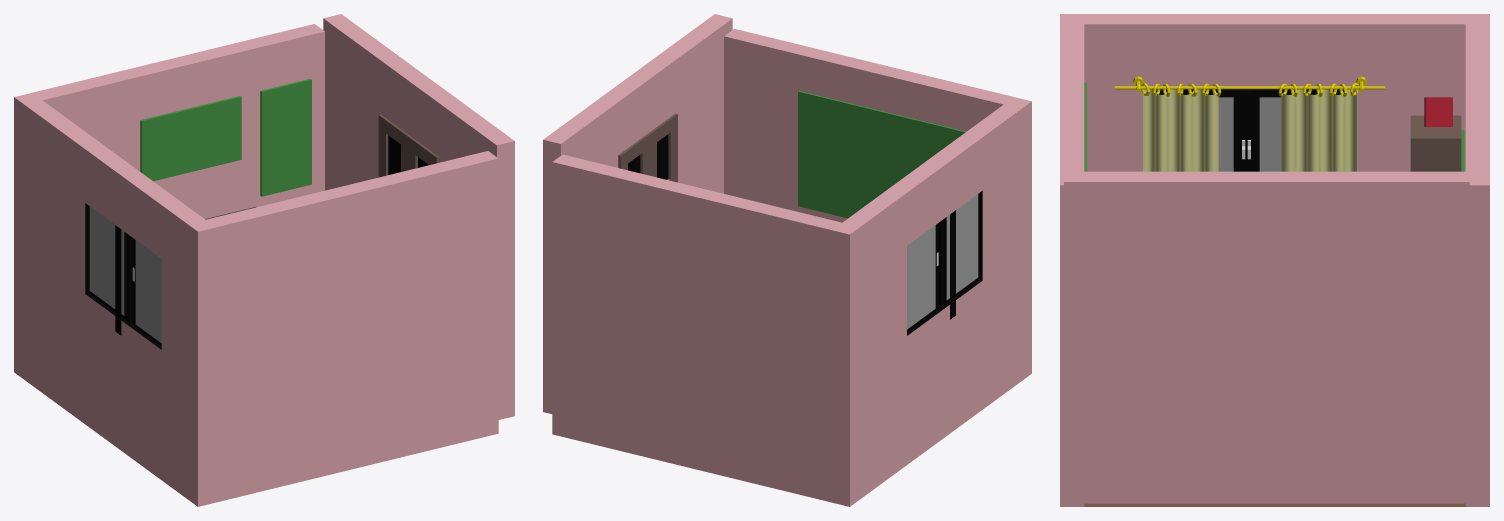
Rendered from Living_Room.fbx.
The picture shows the model from 3 angles, left to right: view 1: azimuth 30°, elevation 25°; view 2: azimuth 150°, elevation 25°; view 3: azimuth 270°, elevation 25°; orthographic projection. The views are drawn at different scales.
Visible parts, largest first — view 1: pCube52, pCube1, pCube53, polySurface27, polySurface28; view 2: pCube1, pCube52, pCube53, polySurface197; view 3: pCube53, pCube1, polySurface99, polySurface91, pCube52, pCube2, pCylinder5, polySurface132.
Boxes of the visible parts, <box> form: pCube52: <box>187,151,498,506</box>; pCube1: <box>14,24,324,498</box>; pCube53: <box>323,14,514,419</box>; polySurface27: <box>140,96,241,181</box>; polySurface28: <box>260,78,311,196</box>; pCube1: <box>552,104,1021,506</box>; pCube52: <box>724,29,1031,380</box>; pCube53: <box>543,14,732,413</box>; polySurface197: <box>798,91,965,218</box>; pCube53: <box>1064,171,1469,503</box>; pCube1: <box>1084,14,1489,506</box>; polySurface99: <box>1281,89,1356,171</box>; polySurface91: <box>1143,89,1218,171</box>; pCube52: <box>1060,14,1084,506</box>; pCube2: <box>1410,115,1461,171</box>; pCylinder5: <box>1114,86,1385,89</box>; polySurface132: <box>1424,97,1452,126</box>.
Size of the model in its own units: 1272 by 1095 by 1272.
